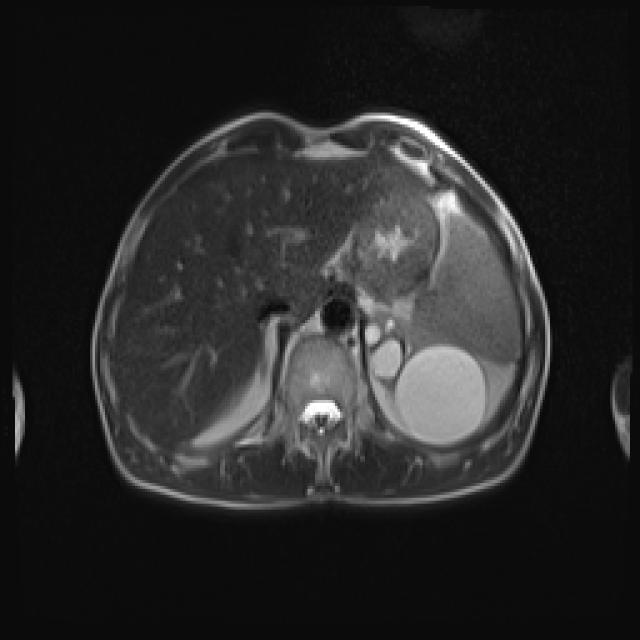sol: (363, 307, 490, 446)
